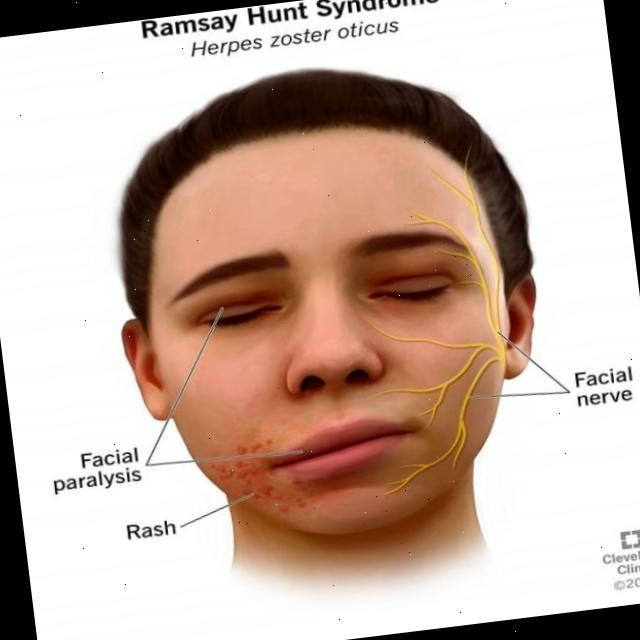Shingles: (213, 440, 307, 518)
